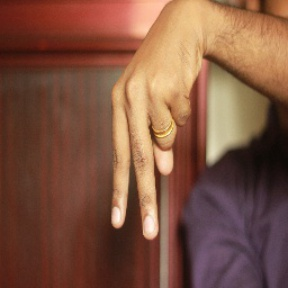Y: (106, 52, 194, 240)
